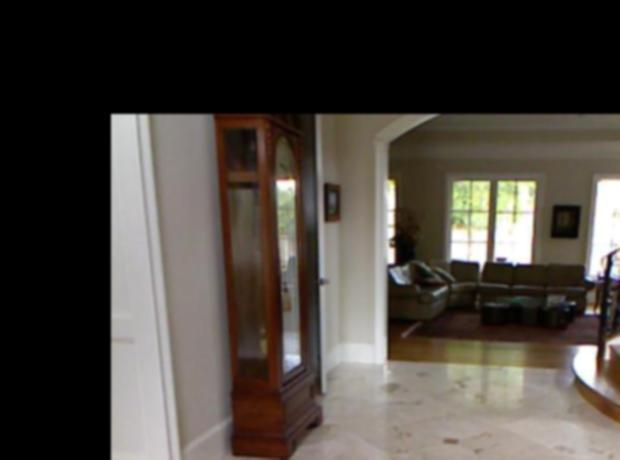Escaleras: (570, 196, 620, 431)
